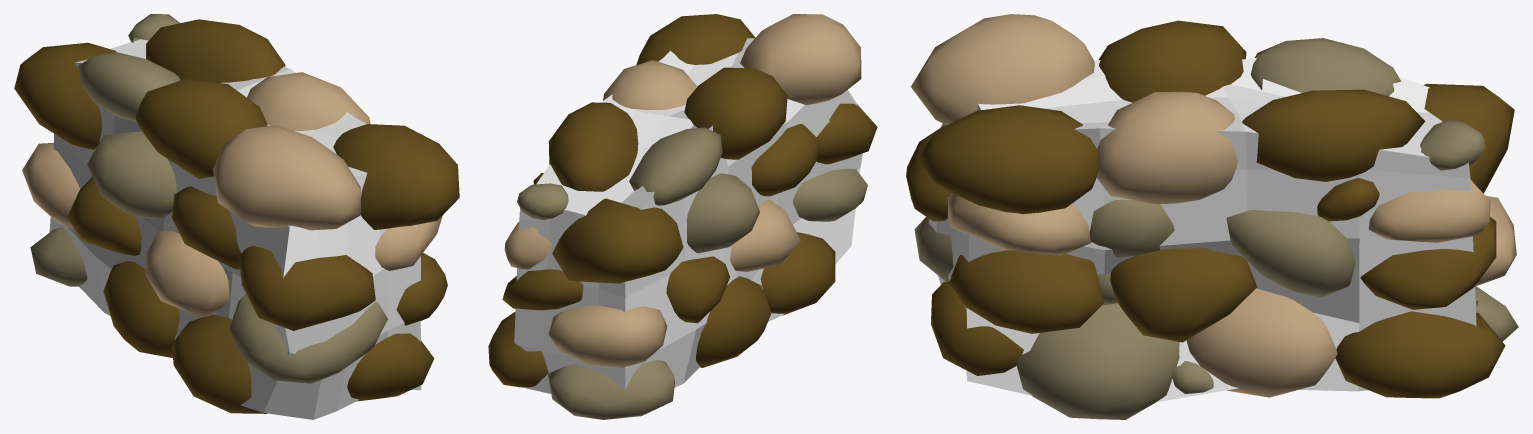
Rendered from muret.glb.
3 renders of one model, left to right at view 1: azimuth 30°, elevation 25°; view 2: azimuth 150°, elevation 25°; view 3: azimuth 270°, elevation 25°, orthographic. The views are drawn at different scales.
Parts seen in each view (by area): view 1: Cube; view 2: Cube; view 3: Cube.
Boxes of the visible parts, <box> form: Cube: <box>14,14,459,419</box>; Cube: <box>488,14,877,419</box>; Cube: <box>906,14,1518,419</box>.
Bounding box in the file's own units: 5.12 × 6.36 × 10.65.
